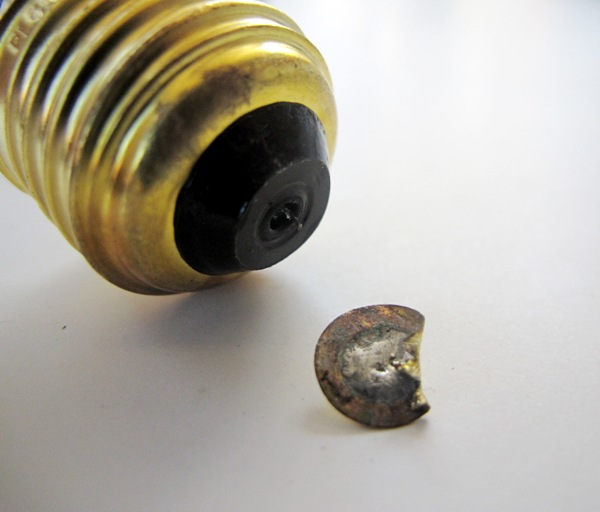Light_bulb: (1, 1, 348, 320)
